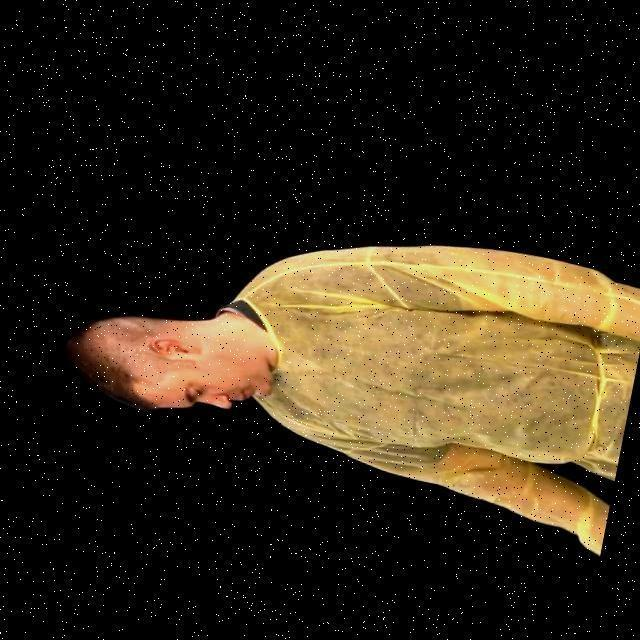no_gloves: (56, 299, 150, 423)
